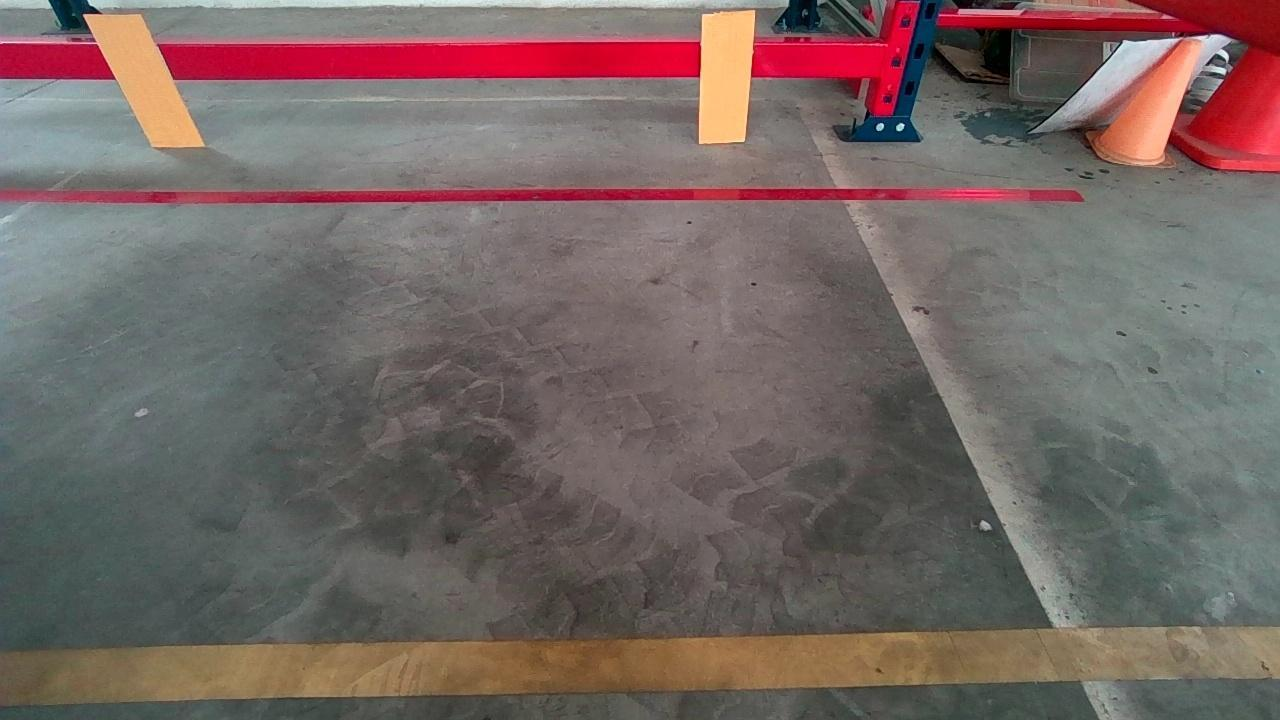h_rack: (12, 38, 886, 85)
orange_strip: (83, 12, 205, 145), (699, 11, 753, 143)
red_line: (7, 178, 1072, 206)
yellow_line: (4, 620, 1271, 708)
